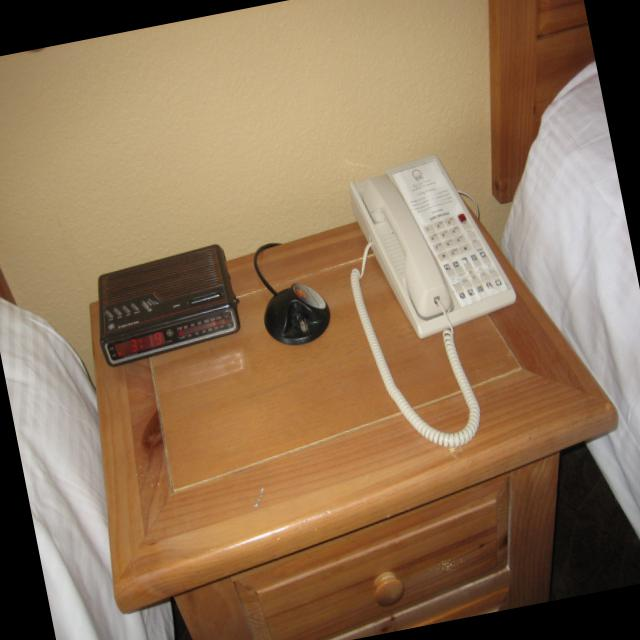alarm: (95, 243, 240, 371)
bed frame: (488, 0, 640, 539), (0, 266, 176, 640)
drawer: (374, 572, 405, 609)
headboard: (488, 0, 616, 210)
phone: (361, 169, 457, 320)
spiral line cord: (349, 236, 482, 448)
telephone booth: (347, 154, 522, 346)
